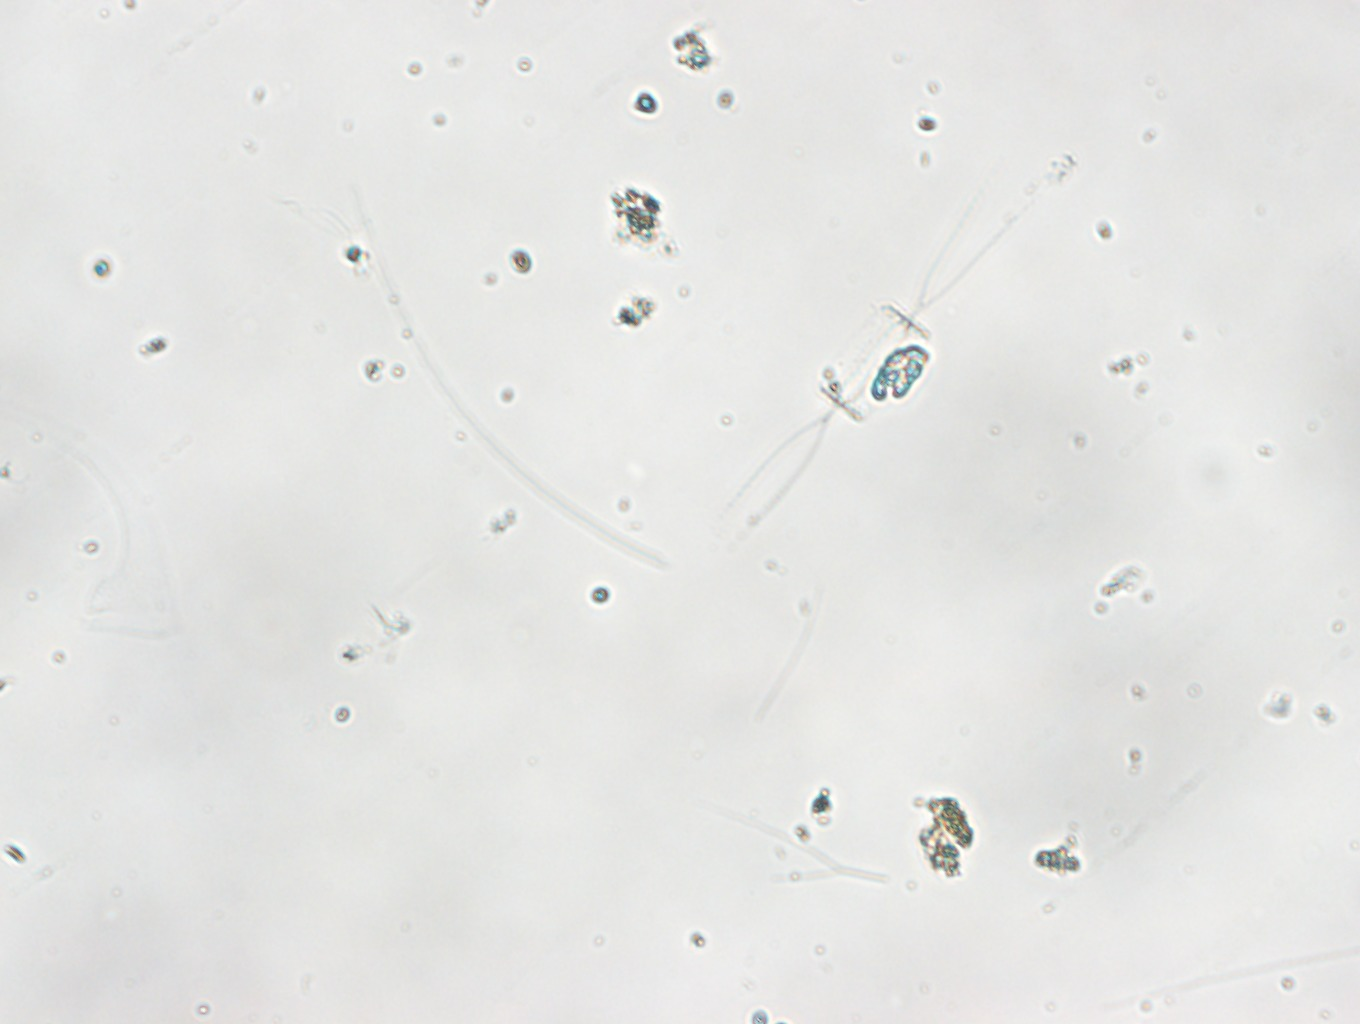chaetoceros: (722, 203, 1012, 521)
